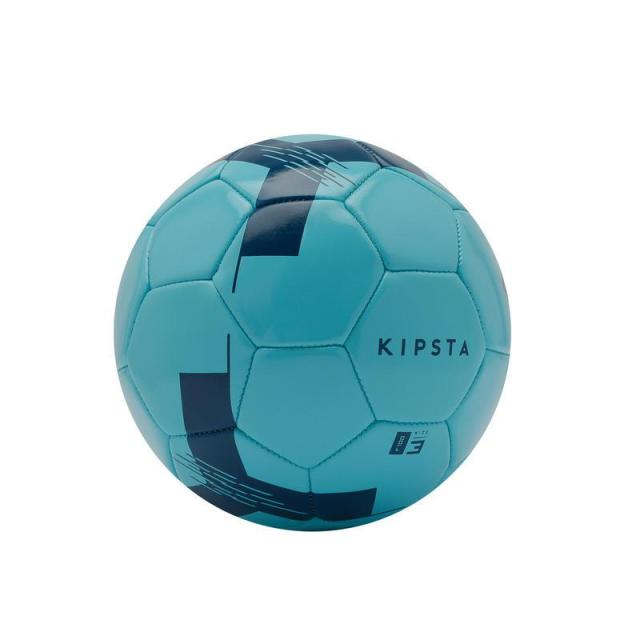ball: (105, 122, 520, 540)
